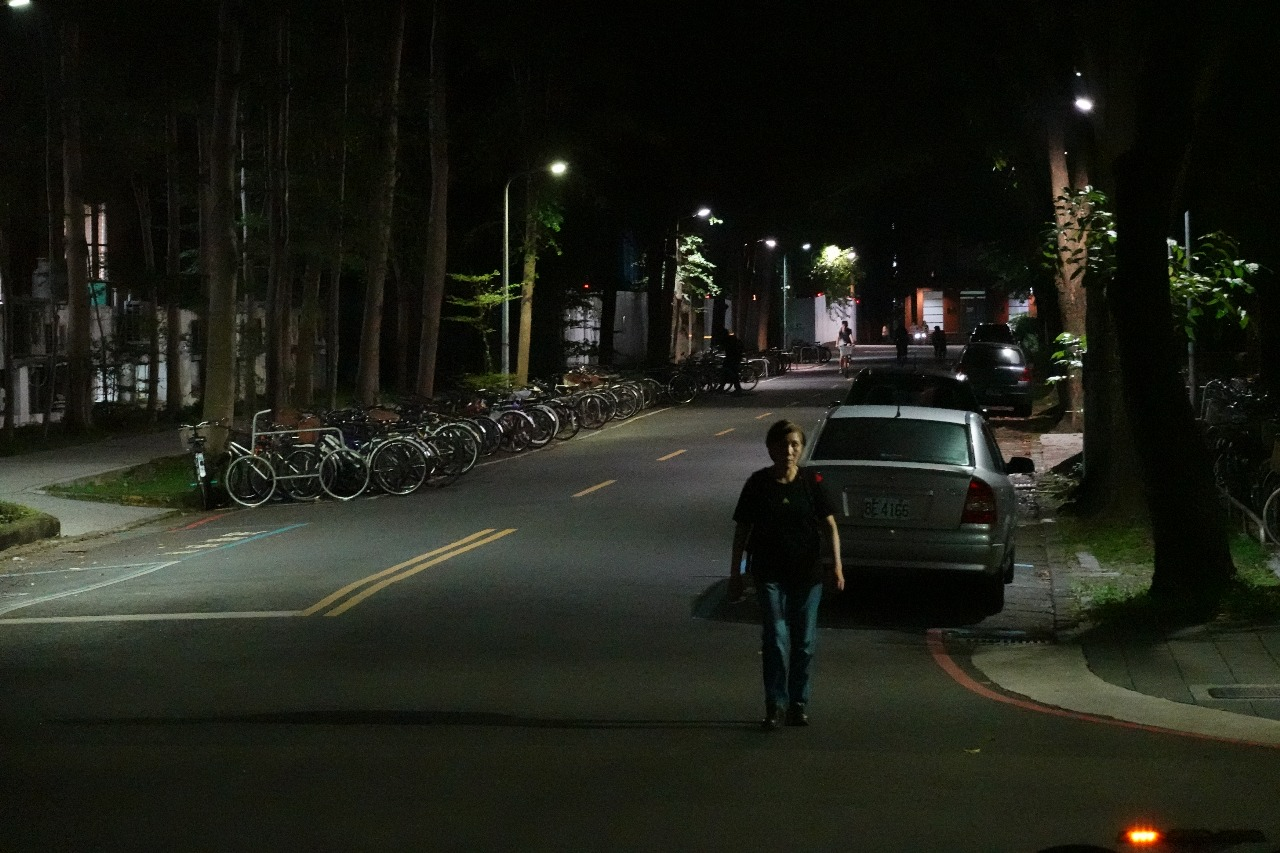bicycle: (166, 391, 378, 519), (700, 350, 780, 398)
car: (805, 385, 1043, 603), (927, 328, 1067, 401)
human: (735, 417, 851, 747)
street light: (445, 123, 633, 215), (995, 92, 1190, 158)
